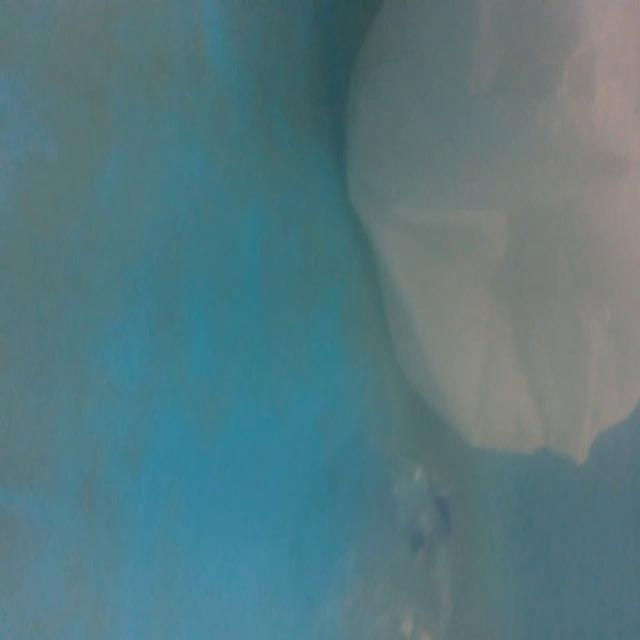plastic bags: (345, 0, 640, 468)
